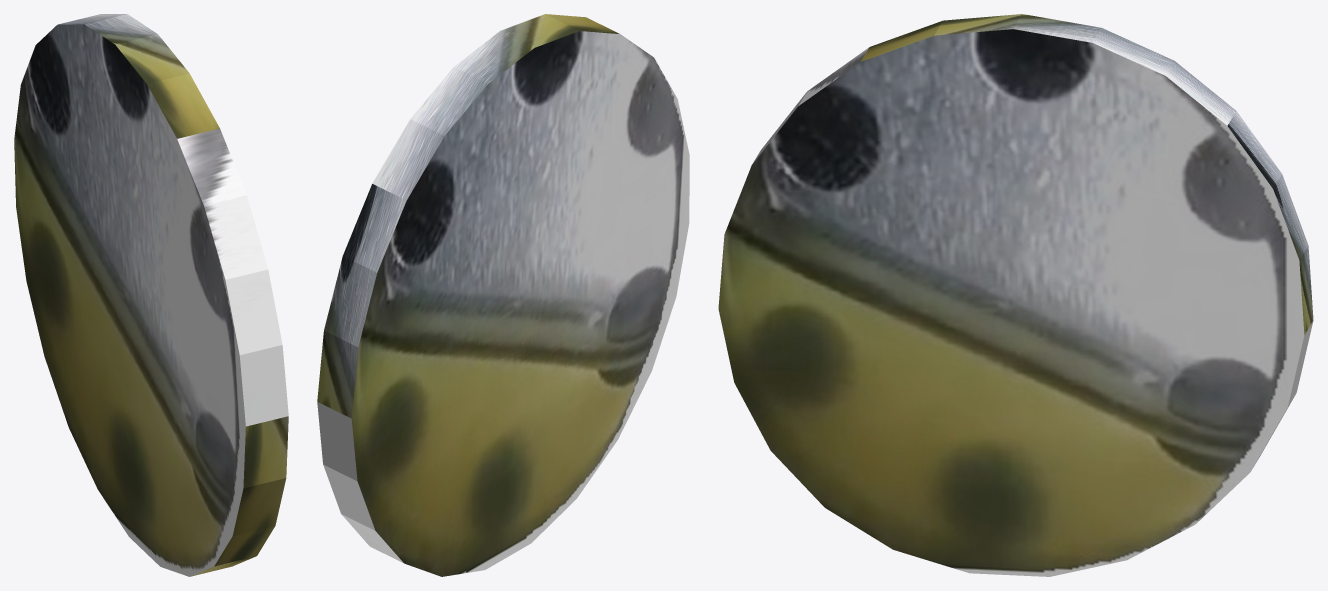
File: OIL CHECK.FBX
3 renders of one model, left to right at view 1: azimuth 30°, elevation 25°; view 2: azimuth 150°, elevation 25°; view 3: azimuth 270°, elevation 25°, orthographic. The views are drawn at different scales.
Visible parts, largest first — view 1: Shape001; view 2: Shape001; view 3: Shape001.
Part boxes in pixels (x1=…): Shape001: x1=14, y1=14, x2=288, y2=576; Shape001: x1=317, y1=14, x2=689, y2=576; Shape001: x1=718, y1=14, x2=1313, y2=576.
Size of the model in its own units: 0.7066 by 3.57 by 3.58.
Materials: 1 (1 with a texture image).
